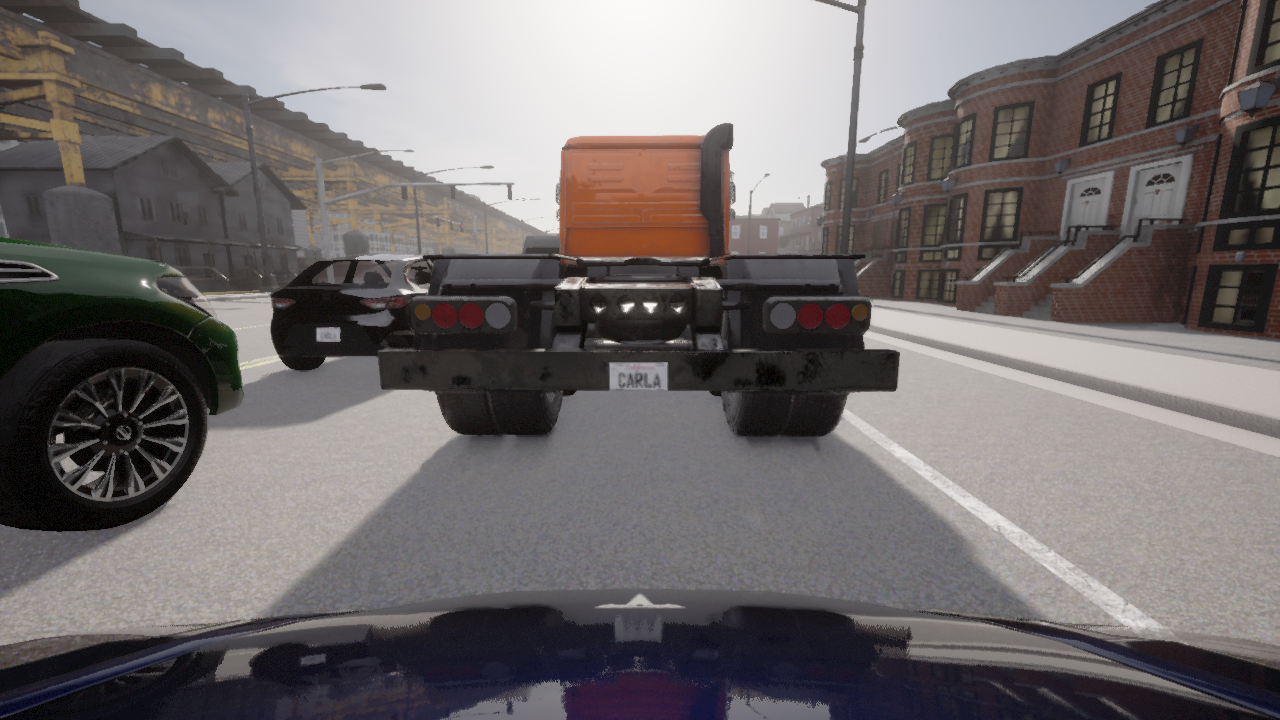cyclist: (0, 588, 1279, 719), (378, 123, 900, 435), (269, 254, 434, 370), (522, 235, 560, 254)
